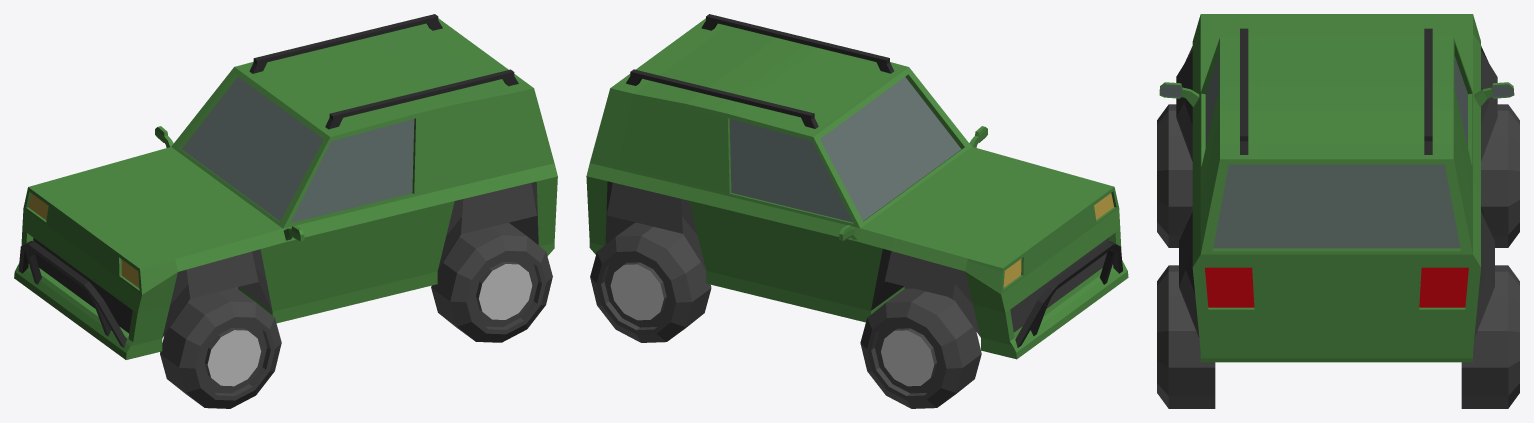
File: OffRoadVehicle.glb
3 renders of one model, left to right at view 1: azimuth 30°, elevation 25°; view 2: azimuth 150°, elevation 25°; view 3: azimuth 270°, elevation 25°, orthographic. The views are drawn at different scales.
Parts seen in each view (by area): view 1: body, wheelfl, wheelbl, Cube.004, roofrackl, roofrackr; view 2: body, wheelfr, wheelbr, Cube.004, roofrackr, roofrackl; view 3: body, wheelbr, wheelbl, wheelfr, wheelfl, roofrackr, roofrackl.
Boxes of the visible parts, <box> form: body: <box>14,18,557,359</box>; wheelfl: <box>160,288,281,408</box>; wheelbl: <box>431,222,552,342</box>; Cube.004: <box>18,241,126,347</box>; roofrackl: <box>325,69,518,129</box>; roofrackr: <box>249,14,442,73</box>; body: <box>586,18,1128,359</box>; wheelfr: <box>860,288,981,408</box>; wheelbr: <box>590,222,711,342</box>; Cube.004: <box>1015,241,1122,347</box>; roofrackr: <box>626,69,818,128</box>; roofrackl: <box>701,14,893,73</box>; body: <box>1159,14,1514,362</box>; wheelbr: <box>1461,265,1519,408</box>; wheelbl: <box>1157,265,1215,408</box>; wheelfr: <box>1481,104,1519,247</box>; wheelfl: <box>1157,104,1192,247</box>; roofrackr: <box>1424,28,1432,154</box>; roofrackl: <box>1240,28,1248,154</box>.
Size of the model in its own units: 512 by 264 by 299.
